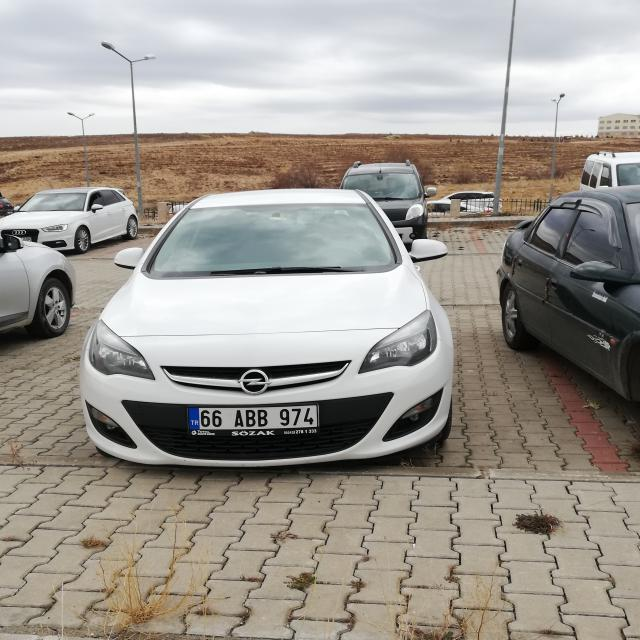license_plate: (186, 406, 318, 429)
